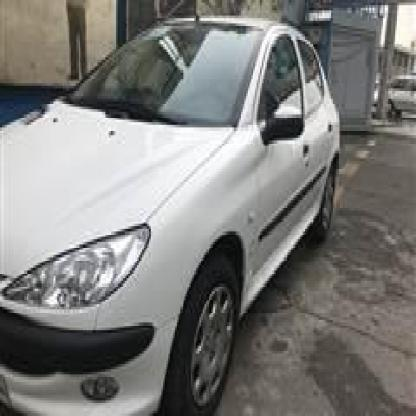Car: (7, 0, 338, 416), (378, 70, 416, 120)
